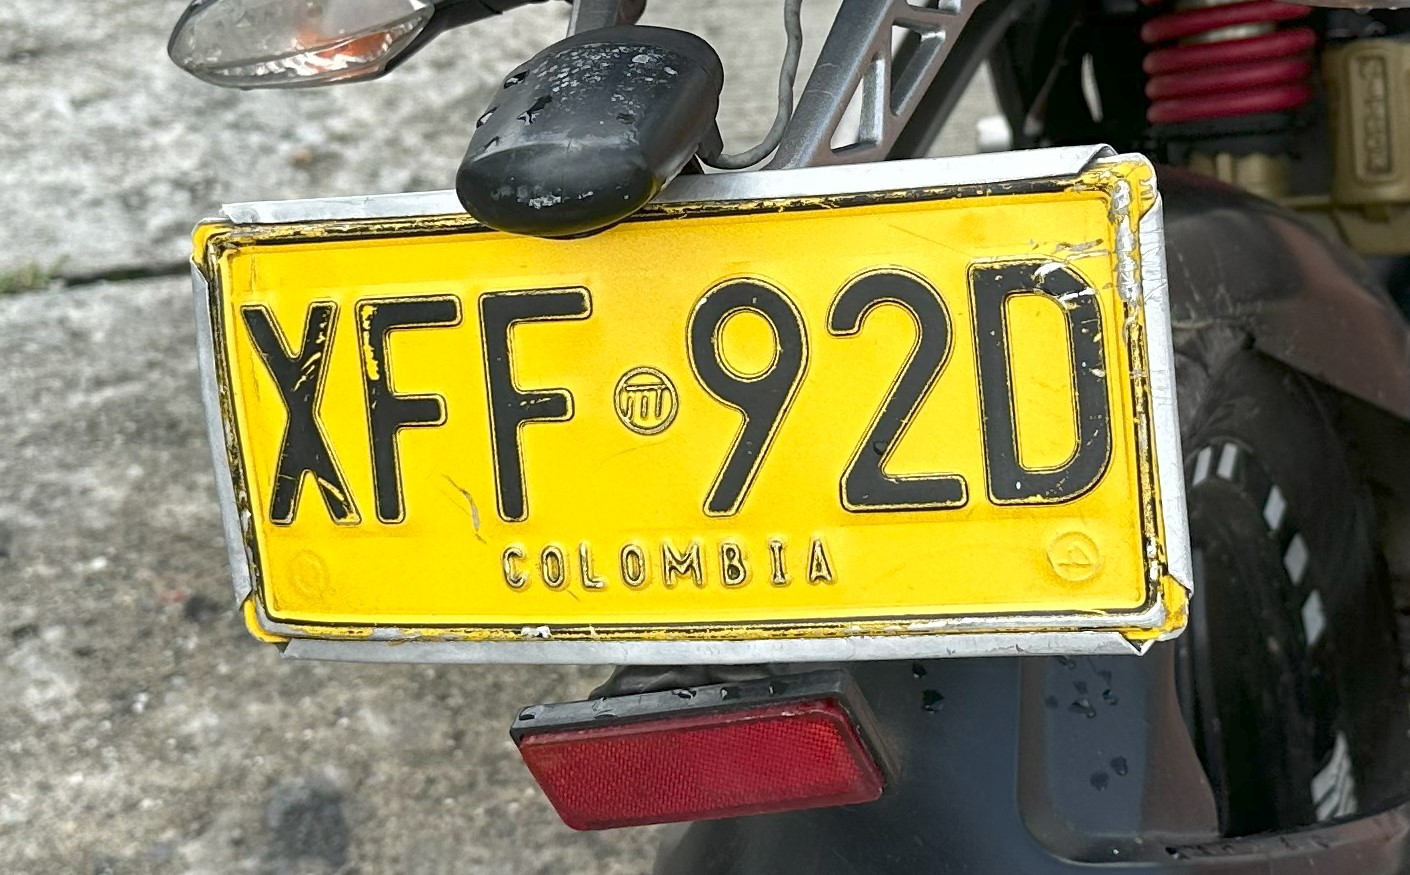number plate: (194, 146, 1189, 661)
